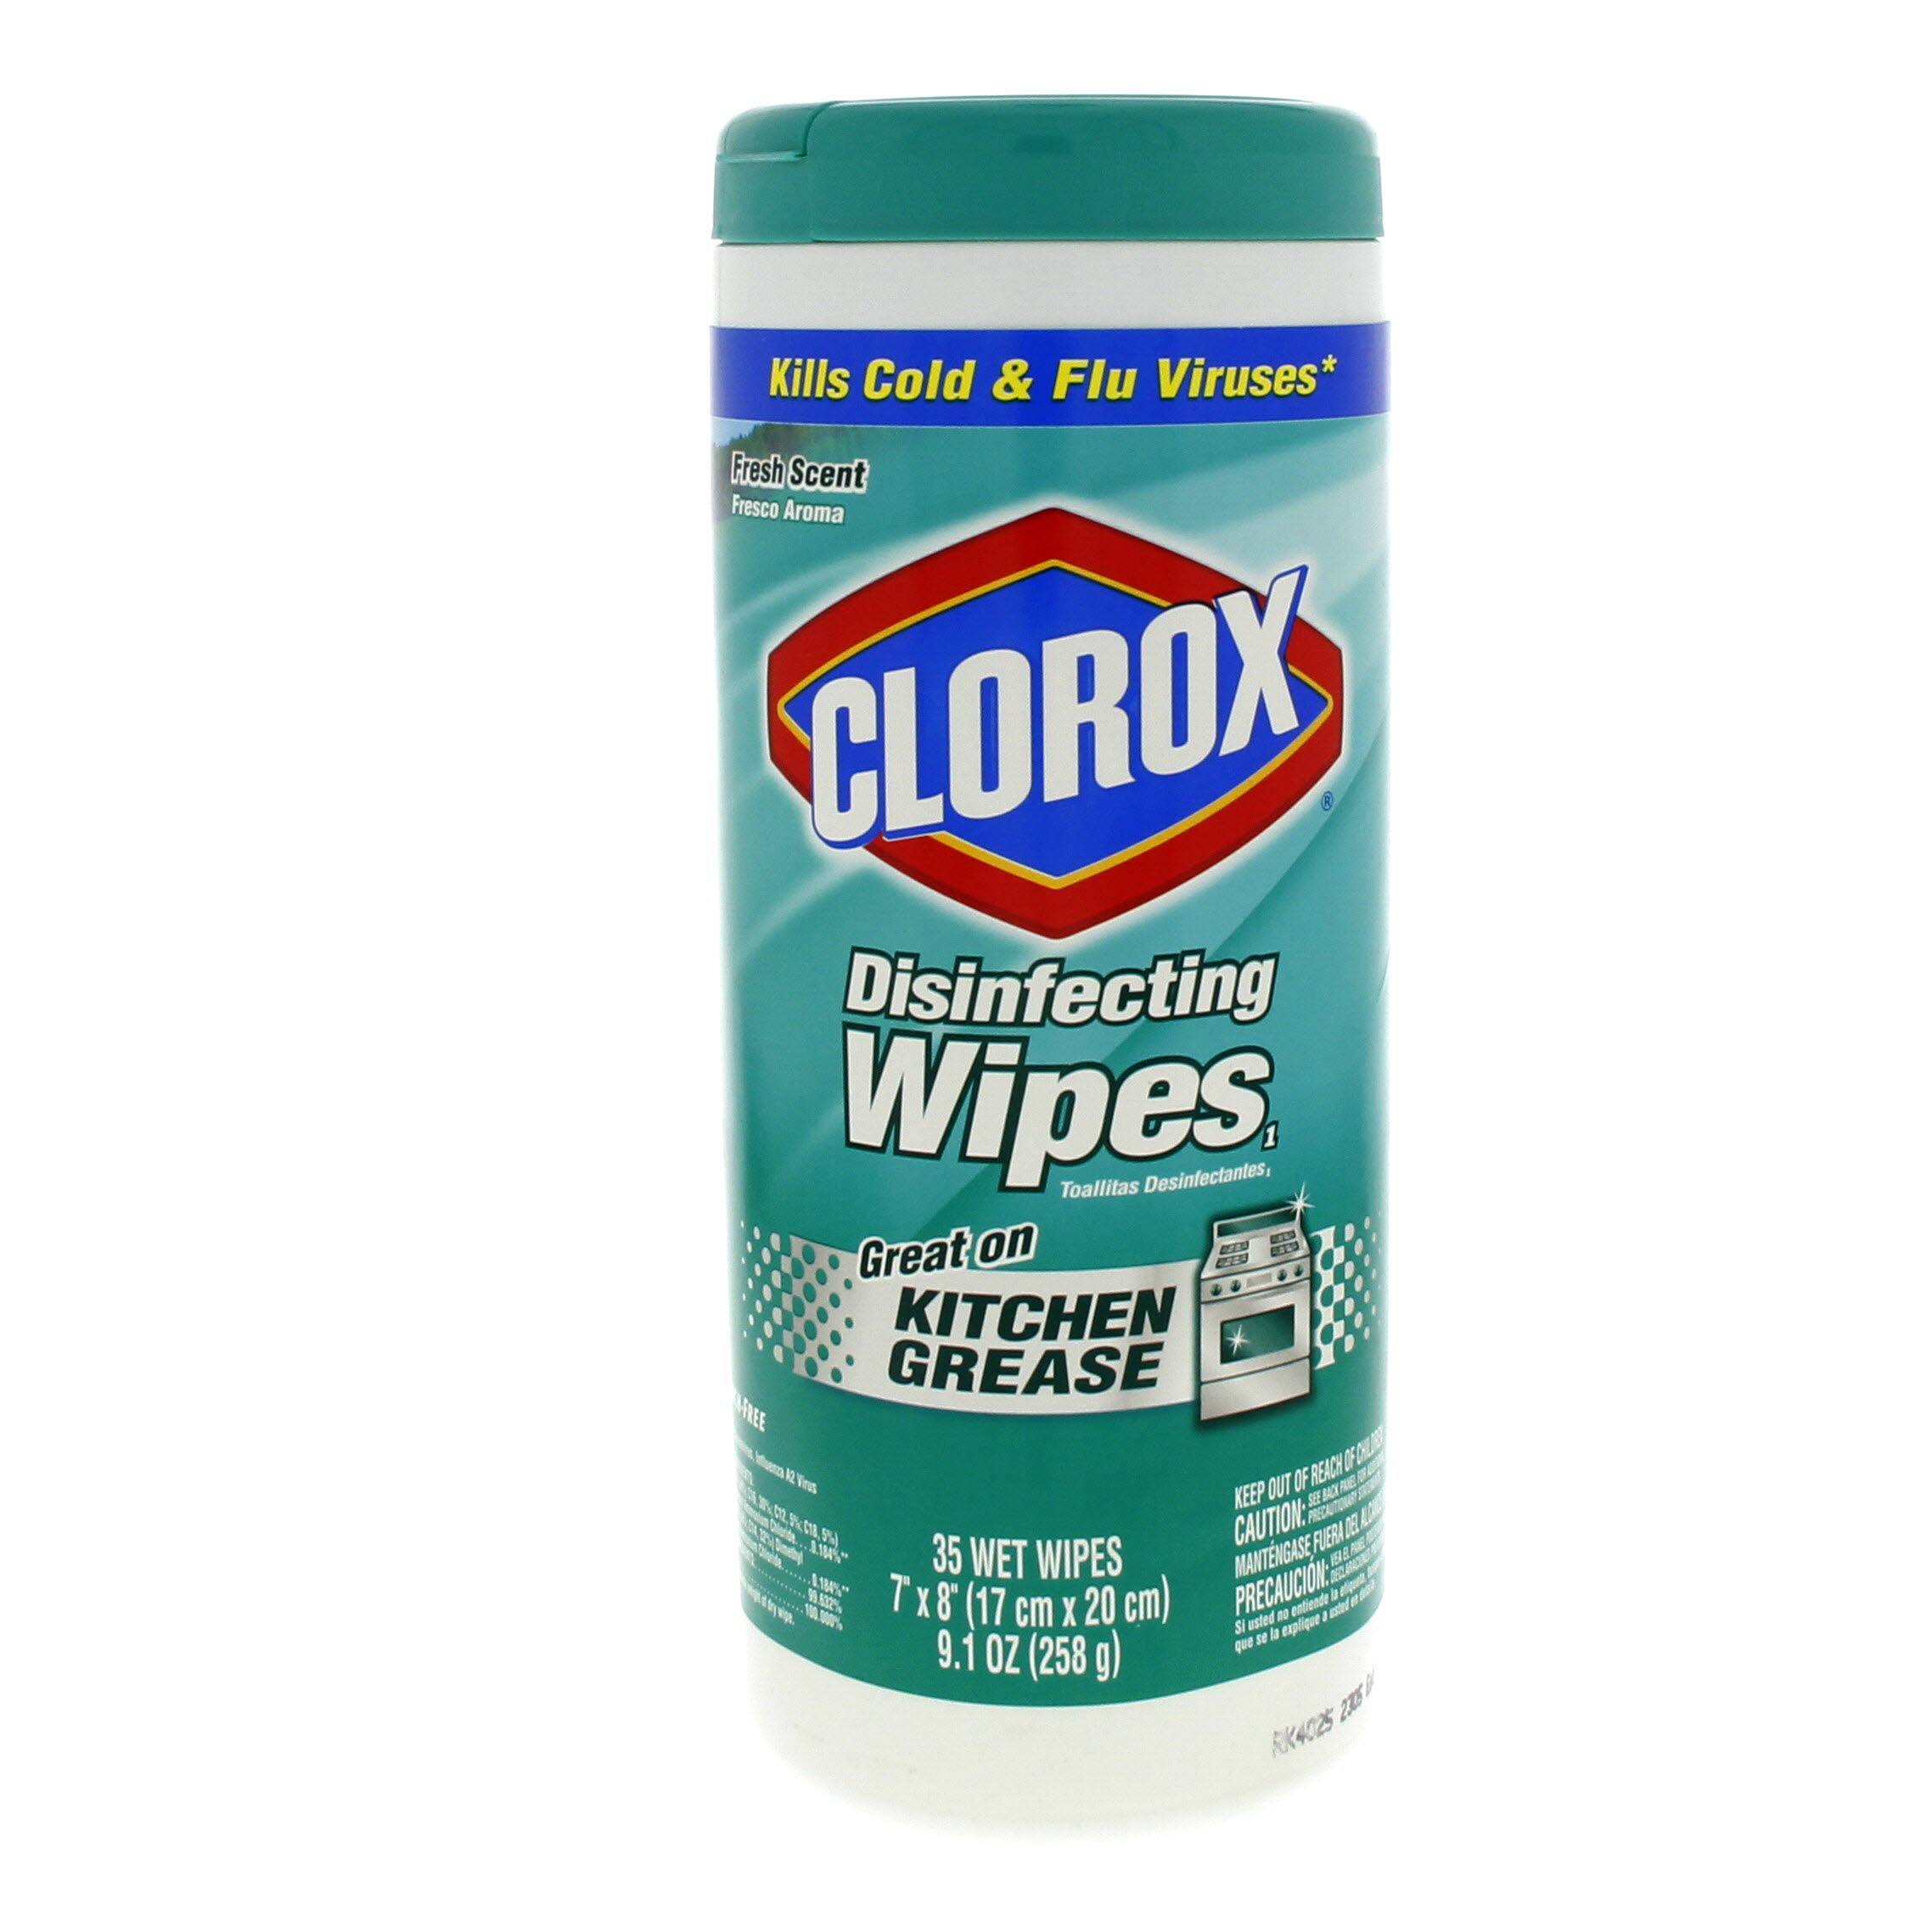Wipes: (699, 81, 1435, 1845)
